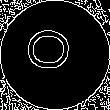O_E: (29, 33, 81, 77)
